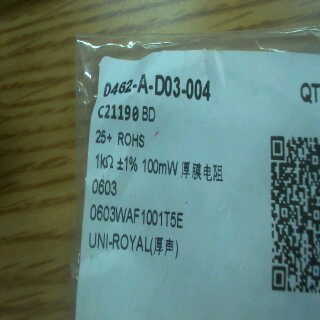1kR: (93, 151, 115, 171)
